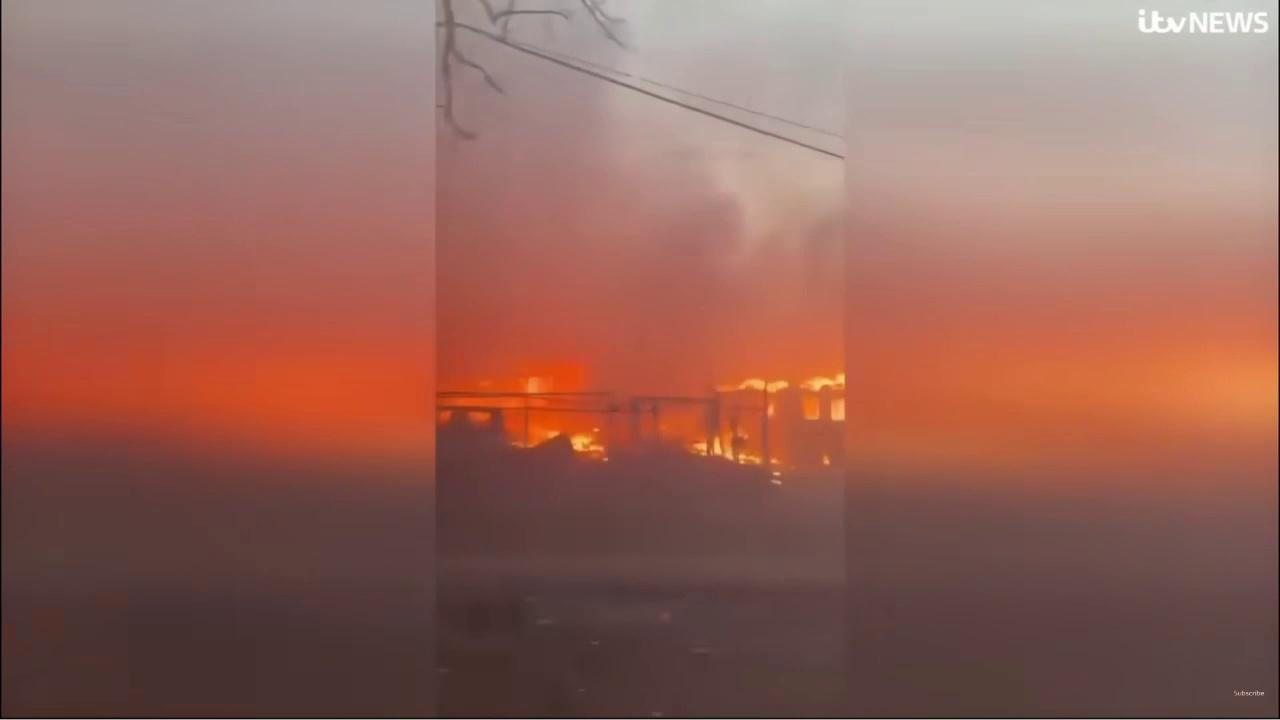fire: (679, 426, 785, 468), (507, 423, 612, 464), (708, 377, 790, 394), (800, 370, 845, 393), (830, 397, 845, 423), (819, 453, 832, 467)
smoke: (432, 0, 844, 720)
